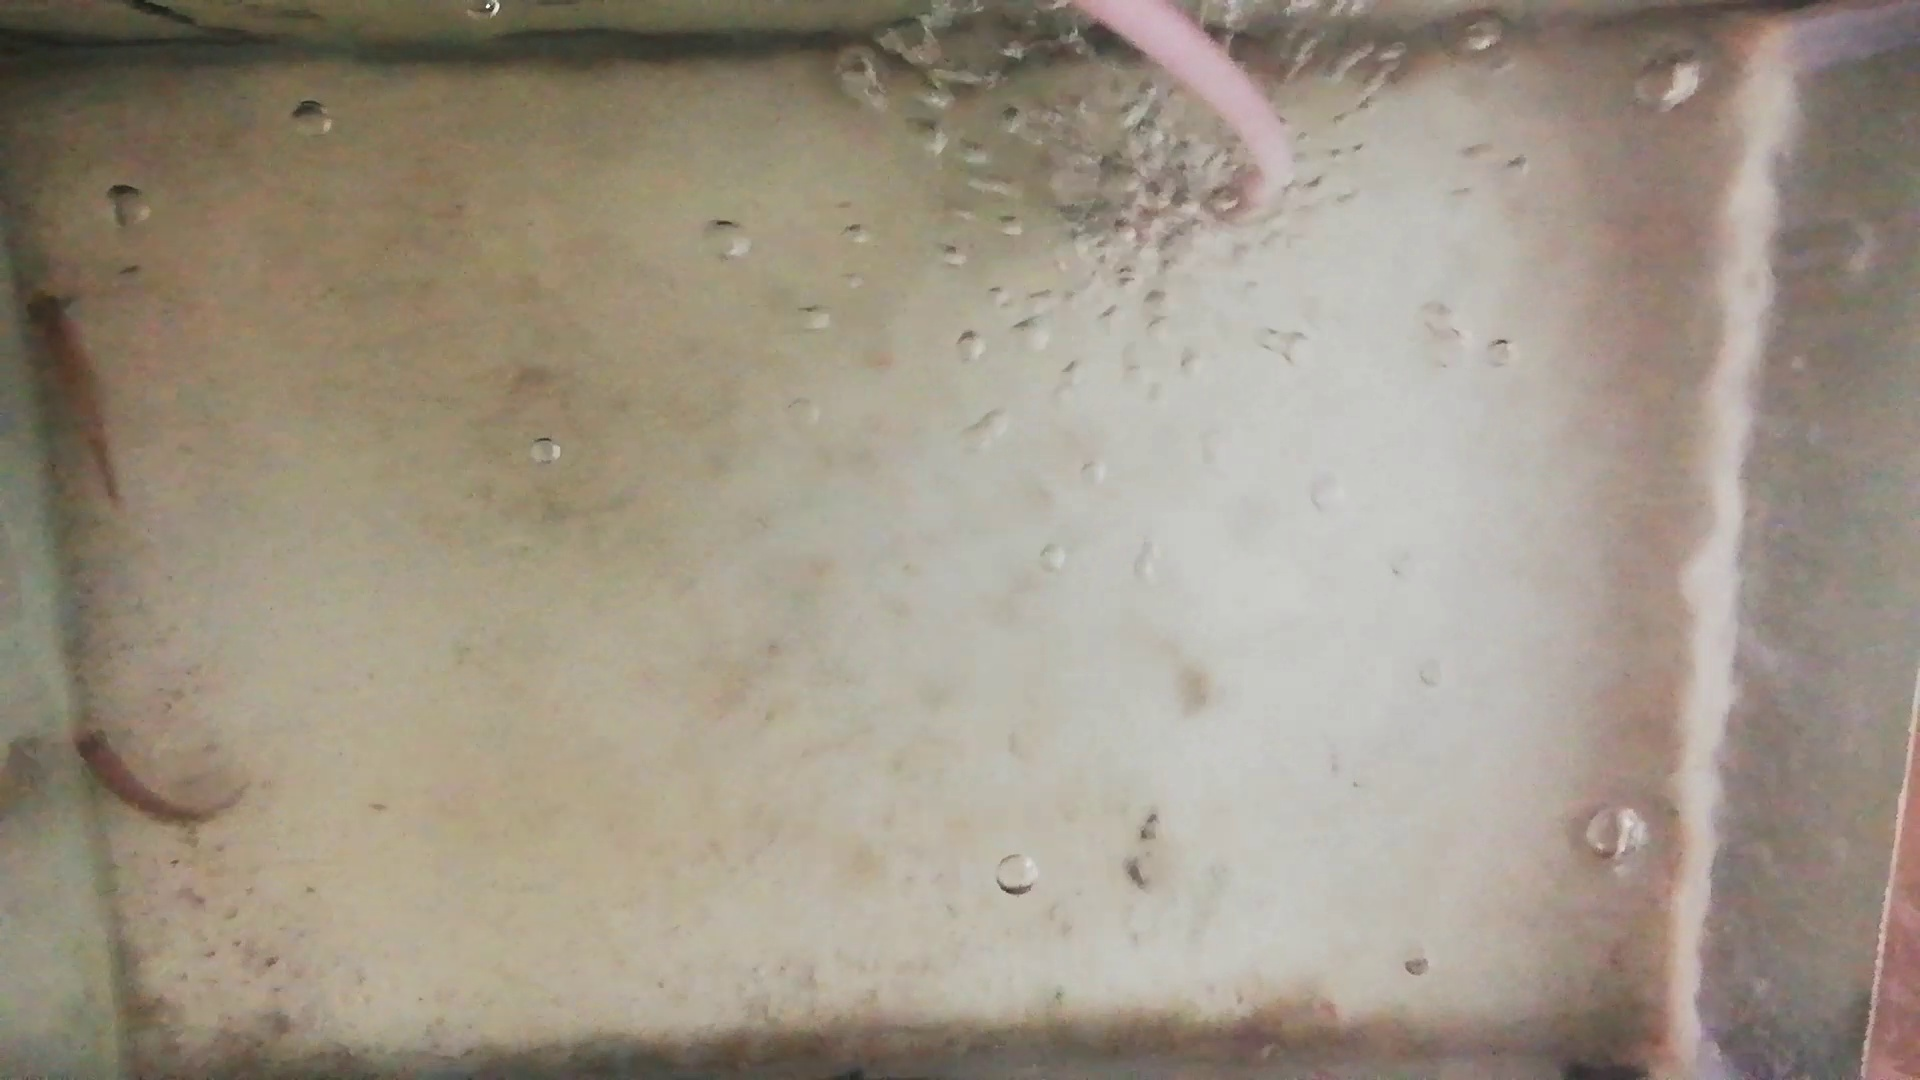fish: (24, 287, 119, 492), (70, 728, 227, 822)
